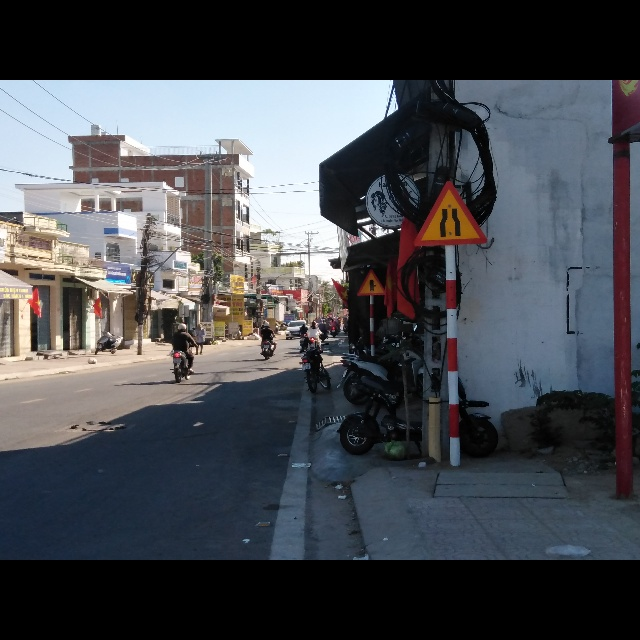Giao nhau với đường không ưu tiên: (358, 269, 388, 296)
Đường bị hẹp cả hai bên: (414, 180, 490, 248)
